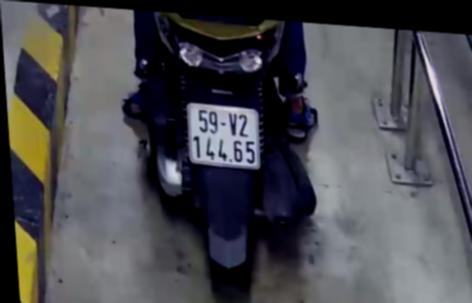License_Plate: (178, 97, 268, 176)
